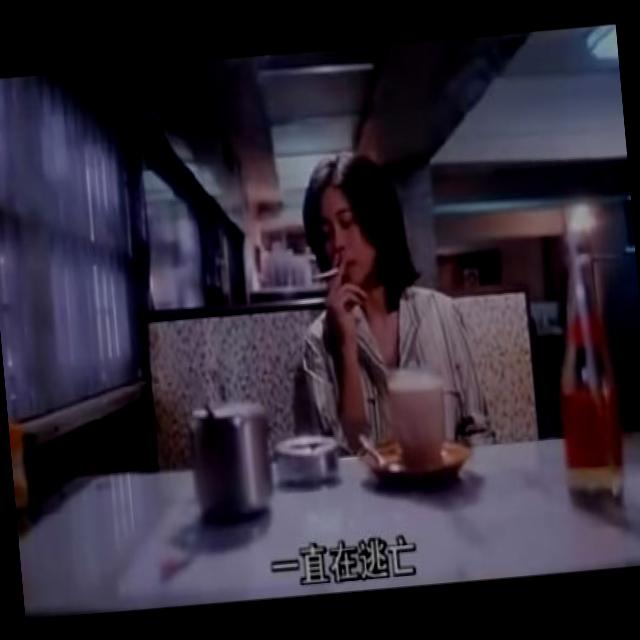cigarette: (304, 262, 341, 281)
